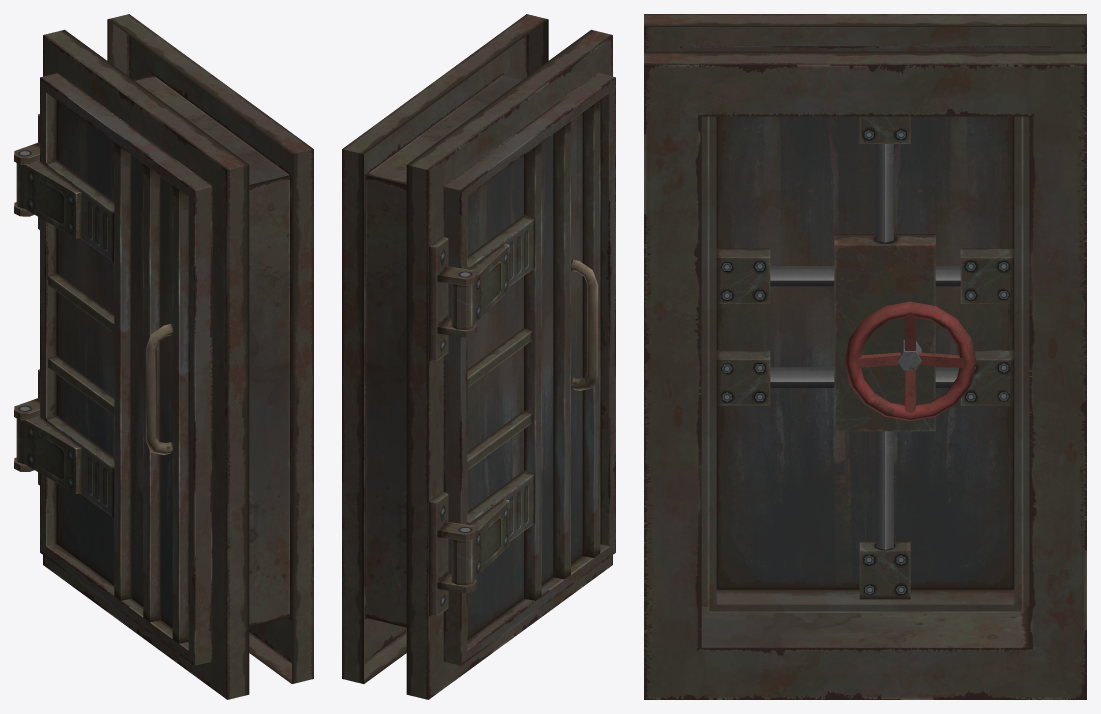
The model's file is door_bunker01.FBX.
The picture shows the model from 3 angles, left to right: view 1: azimuth 30°, elevation 25°; view 2: azimuth 150°, elevation 25°; view 3: azimuth 270°, elevation 25°; orthographic projection. The views are drawn at different scales.
Visible parts, largest first — view 1: door_bunker01, door_bunker01_frame; view 2: door_bunker01, door_bunker01_frame; view 3: door_bunker01, door_bunker01_frame.
Part boxes in pixels (<box>): door_bunker01: <box>16,73,212,665</box>; door_bunker01_frame: <box>14,14,313,699</box>; door_bunker01: <box>443,73,615,665</box>; door_bunker01_frame: <box>342,14,612,699</box>; door_bunker01: <box>680,46,1050,612</box>; door_bunker01_frame: <box>644,14,1086,699</box>.
Size of the model in its own units: 57.44 by 235 by 148.
